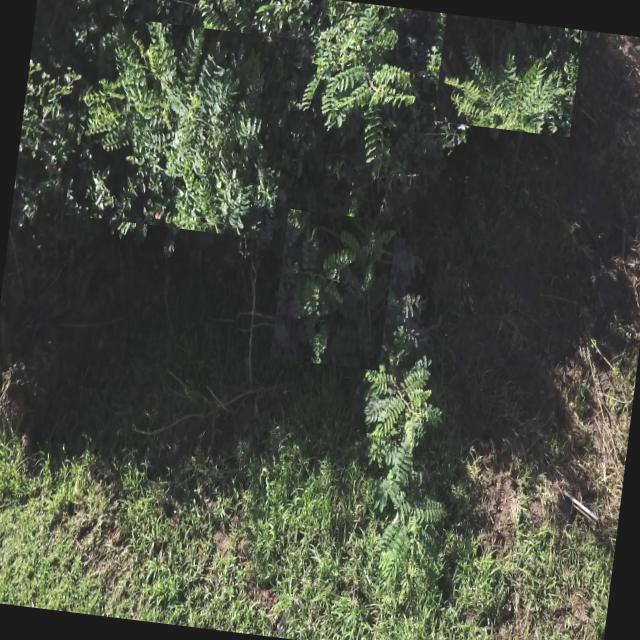Mysore-Thorn-Weed: (64, 13, 296, 240), (340, 354, 470, 588), (292, 0, 419, 191), (270, 209, 396, 371), (433, 13, 582, 137)
